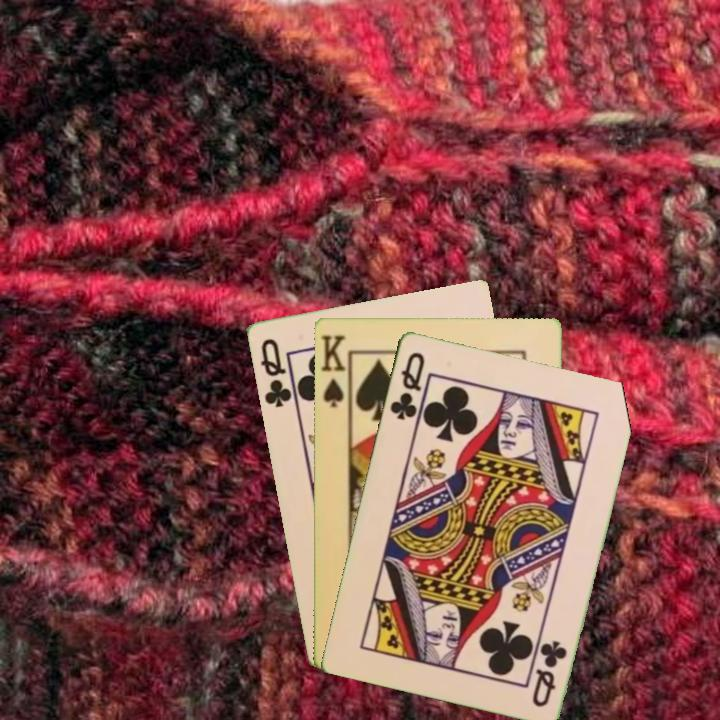Ks: (317, 331, 348, 410)
Qc: (256, 334, 298, 410), (528, 636, 570, 710), (386, 348, 427, 423)
